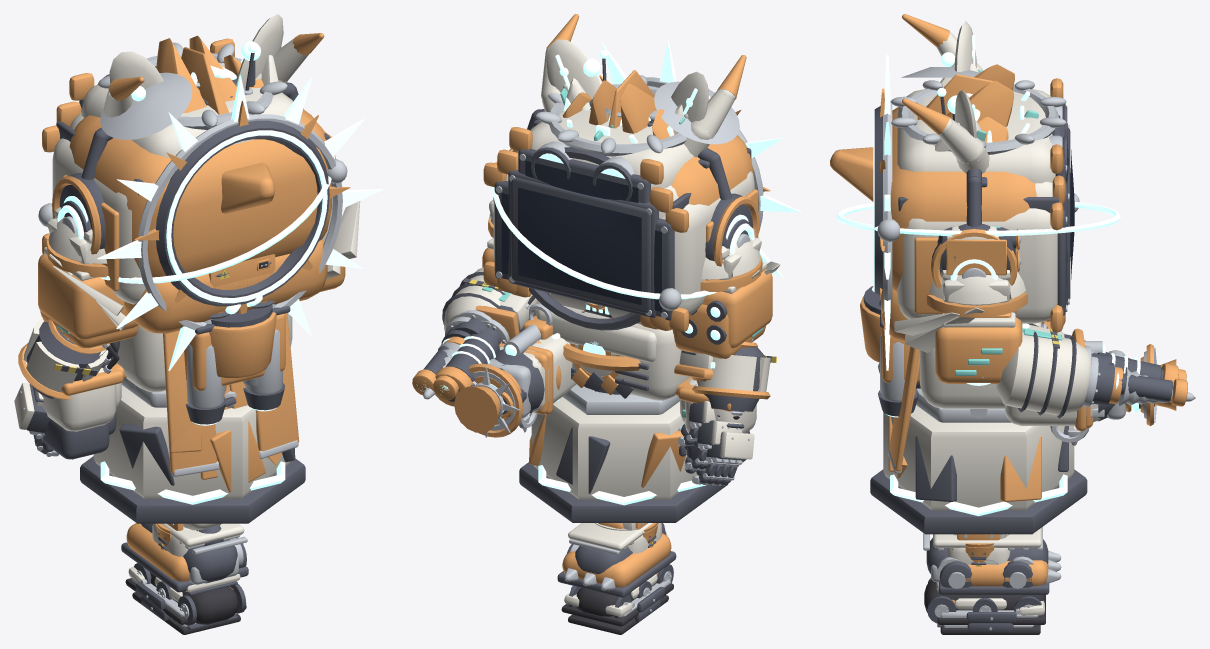
Rendered from kit.glb.
3 views of the same model, side by side, from view 1: azimuth 30°, elevation 25°; view 2: azimuth 150°, elevation 25°; view 3: azimuth 270°, elevation 25° (orthographic). The views are drawn at different scales.
Parts seen in each view (by area): view 1: top_hood__trim, bumper_body__shell, bumper_body__dark, spin_halo__dark, back_cape__trim, spin_rays__glow, shoulders_pod__trim, spin_rays__metal, top_dish__metal, back_planter__trim, head_wide__shell, spin_halo__glow (+43 smaller); view 2: head_round__screen, bumper_body__shell, bumper_body__dark, torso_heavy__shell, head_round__dark, bigorna2_arm__shell, head_wide__shell, head_tall__shell, top_leaves__shell, top_bolts__trim, top_hood__trim, shoulders_pod__trim (+57 smaller); view 3: bumper_body__shell, top_hood__trim, bumper_body__dark, head_wide__shell, head_tall__shell, bigorna2_arm__shell, shoulders_block__trim, spin_laurel__metal, torso_heavy__shell, top_bolts__trim, head_wide__trim, salvo2_shoulders__trim (+45 smaller).
Boxes of the visible parts, left/top/right/bottom form: top_hood__trim: left=69, top=109, right=331, bottom=333; bumper_body__shell: left=93, top=385, right=290, bottom=498; bumper_body__dark: left=80, top=424, right=305, bottom=523; spin_halo__dark: left=156, top=120, right=329, bottom=306; back_cape__trim: left=163, top=313, right=298, bottom=473; spin_rays__glow: left=97, top=74, right=383, bottom=370; shoulders_pod__trim: left=38, top=253, right=138, bottom=339; spin_rays__metal: left=138, top=114, right=342, bottom=332; top_dish__metal: left=100, top=72, right=192, bottom=139; back_planter__trim: left=209, top=312, right=276, bottom=377; head_wide__shell: left=52, top=138, right=332, bottom=304; spin_halo__glow: left=166, top=130, right=327, bottom=303; head_round__screen: left=518, top=187, right=641, bottom=305; bumper_body__shell: left=531, top=397, right=698, bottom=499; bumper_body__dark: left=519, top=427, right=728, bottom=522; torso_heavy__shell: left=533, top=300, right=690, bottom=400; head_round__dark: left=511, top=177, right=650, bottom=313; bigorna2_arm__shell: left=444, top=267, right=770, bottom=459; head_wide__shell: left=493, top=171, right=754, bottom=315; head_tall__shell: left=530, top=110, right=710, bottom=189; top_leaves__shell: left=546, top=39, right=708, bottom=122; top_bolts__trim: left=562, top=80, right=674, bottom=139; top_hood__trim: left=514, top=135, right=753, bottom=205; shoulders_pod__trim: left=702, top=268, right=772, bottom=347; bumper_body__shell: left=883, top=405, right=1074, bottom=510; top_hood__trim: left=830, top=107, right=1036, bottom=341; bumper_body__dark: left=870, top=426, right=1087, bottom=534; head_wide__shell: left=896, top=208, right=1057, bottom=323; head_tall__shell: left=897, top=89, right=1055, bottom=183; bigorna2_arm__shell: left=995, top=334, right=1090, bottom=415; shoulders_block__trim: left=935, top=317, right=1022, bottom=383; spin_laurel__metal: left=891, top=80, right=1066, bottom=154; torso_heavy__shell: left=920, top=322, right=1041, bottom=408; top_bolts__trim: left=946, top=64, right=1014, bottom=142; head_wide__trim: left=914, top=202, right=1063, bottom=332; salvo2_shoulders__trim: left=946, top=229, right=1019, bottom=275.
Bounding box in the file's own units: 1.61 × 2.87 × 1.68.
